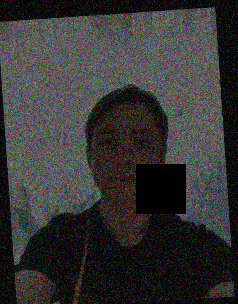without_mask: (89, 125, 161, 205)
